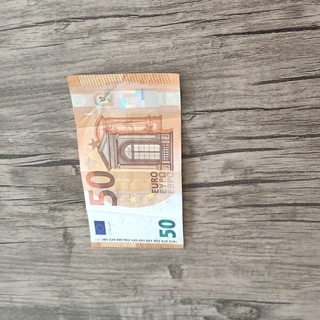50EUROFront: (67, 72, 185, 250)
